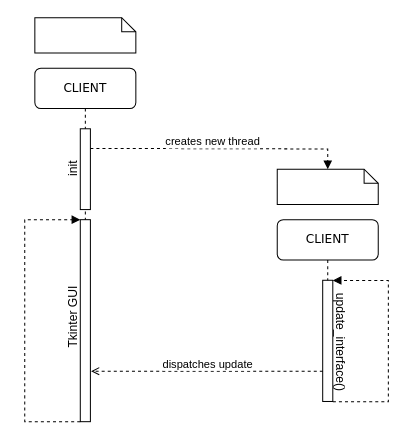
Some shapes in this 414 by 447 pixel diagram are drawn without their labels. The shapes that lost their labels are listed below. From the top down, each one's box as (x1, y1, x2, y2) in pixels, then its label:
(34, 17, 136, 53): Thread Principale
(276, 168, 378, 205): Thread update_interface
